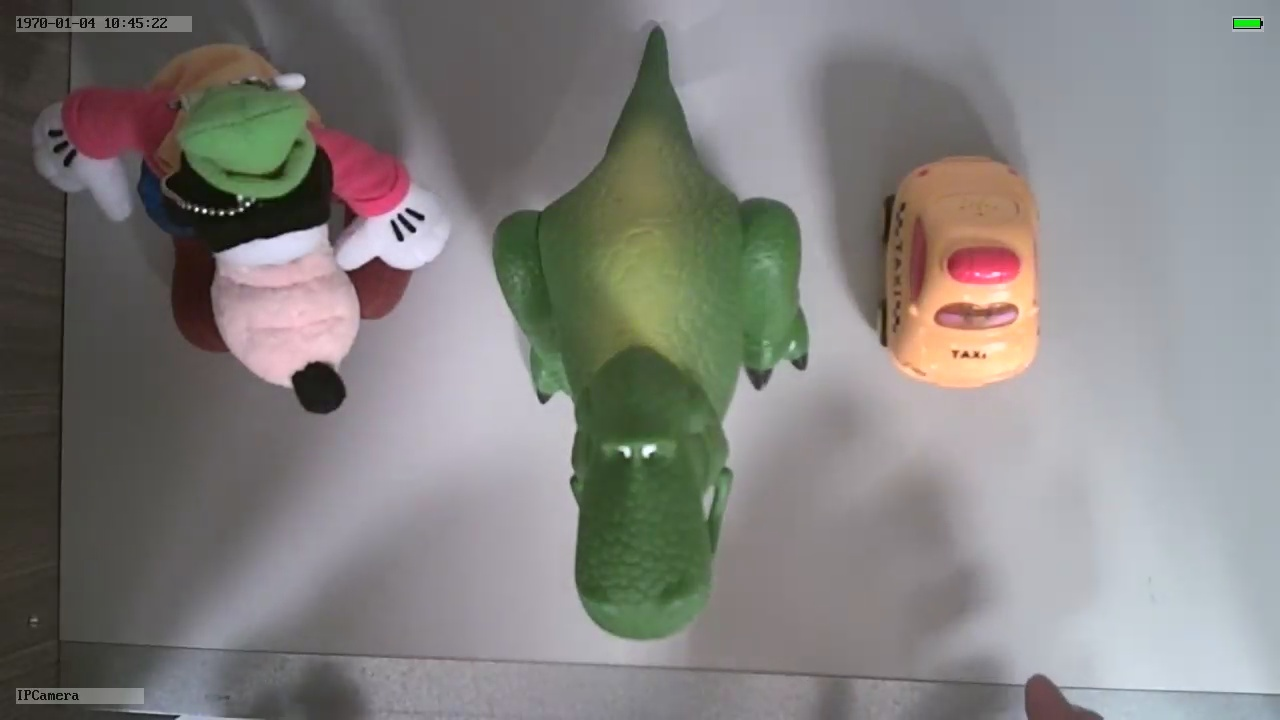car: (871, 151, 1045, 388)
goofy: (31, 42, 450, 413)
rex: (492, 96, 810, 642)
